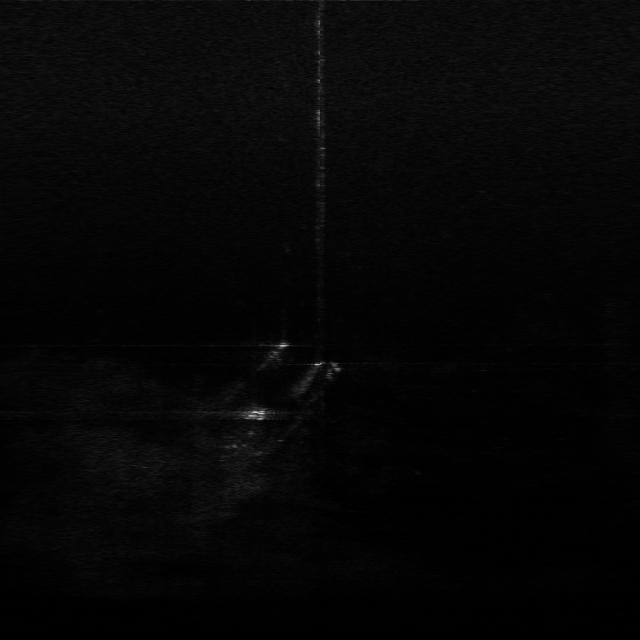rov: (237, 406, 272, 424)
